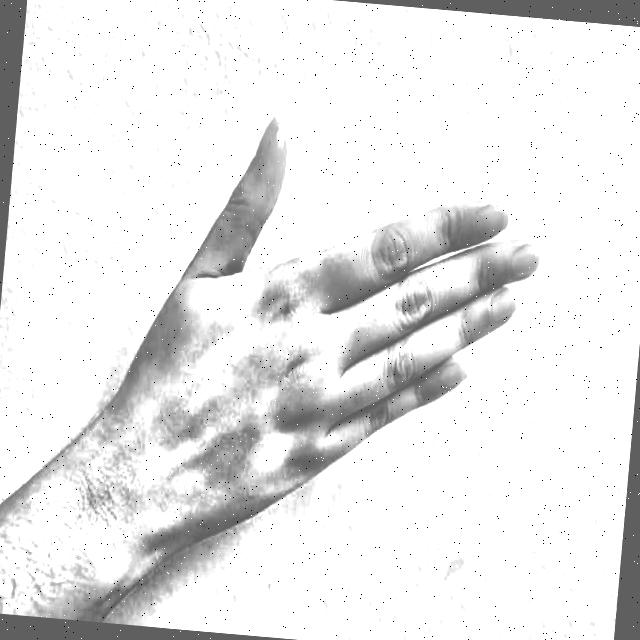Aa: (114, 74, 584, 600)
